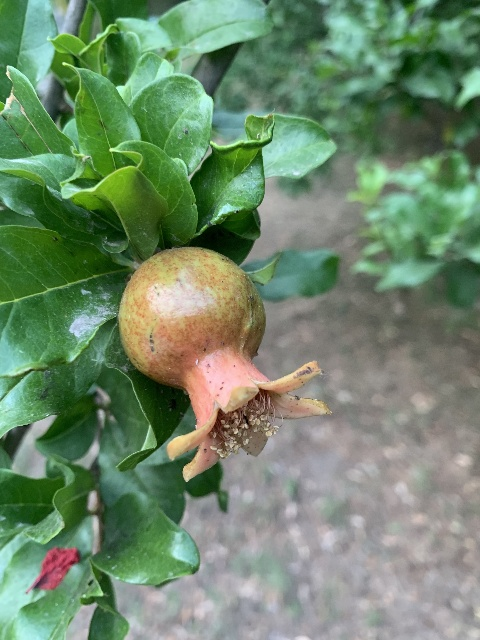early-fruit: (119, 247, 330, 483)
